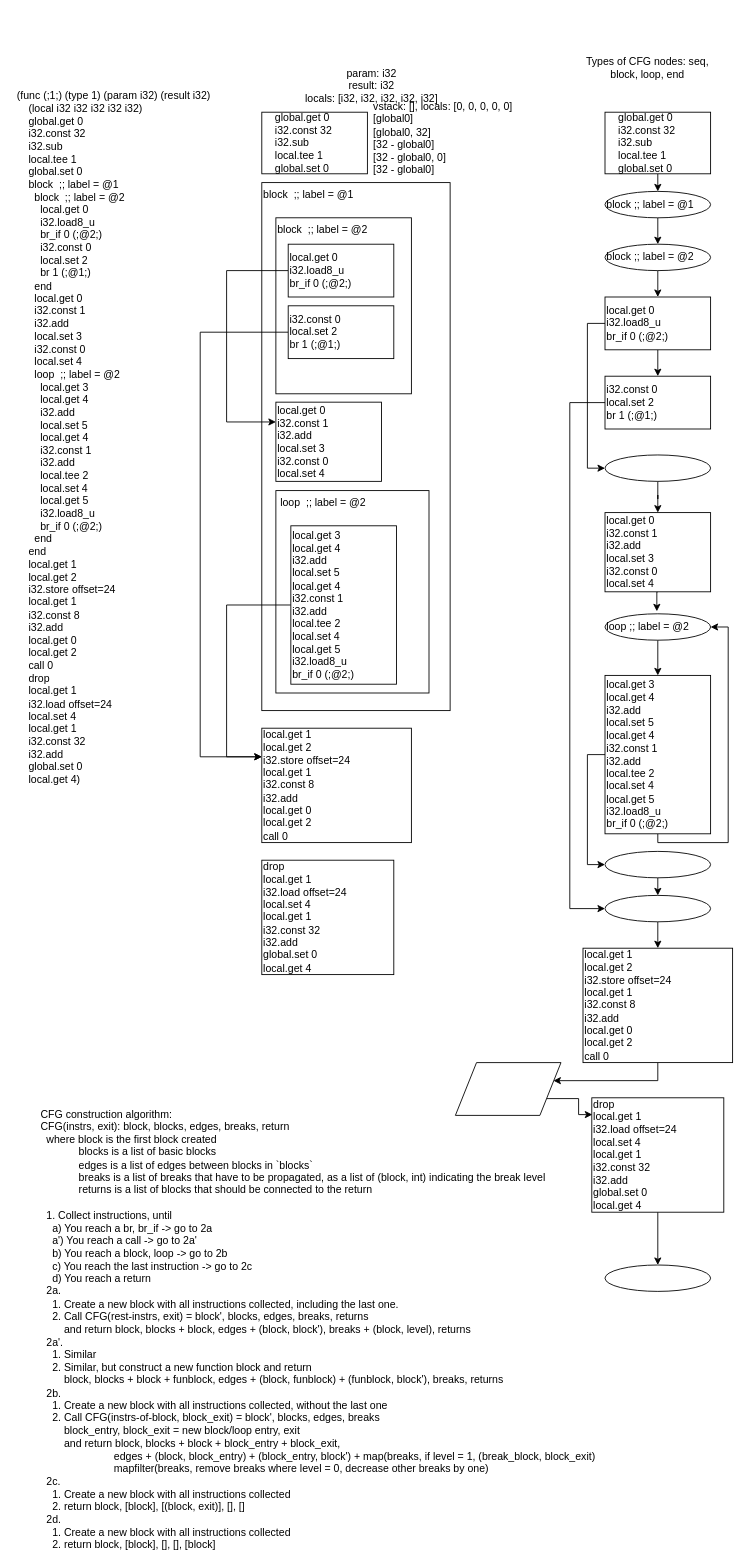
Image size: 751x1566. Some labels were removed from this diagram. Here are the shapes that lost their labels. From the top down, the centre of each, then its label:
the point at 657,467: end ;; @2
the point at 657,864: end ;; loop @2
the point at 657,908: end ;; block @1
the point at 508,1088: Function 0
the point at 657,1277: Exit
